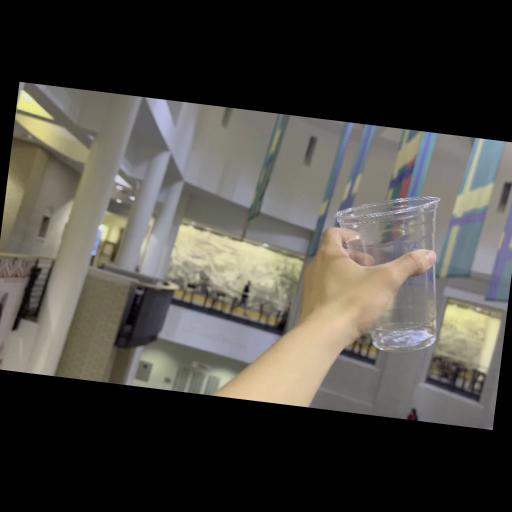lp_plastic_cup: (322, 188, 454, 356)
